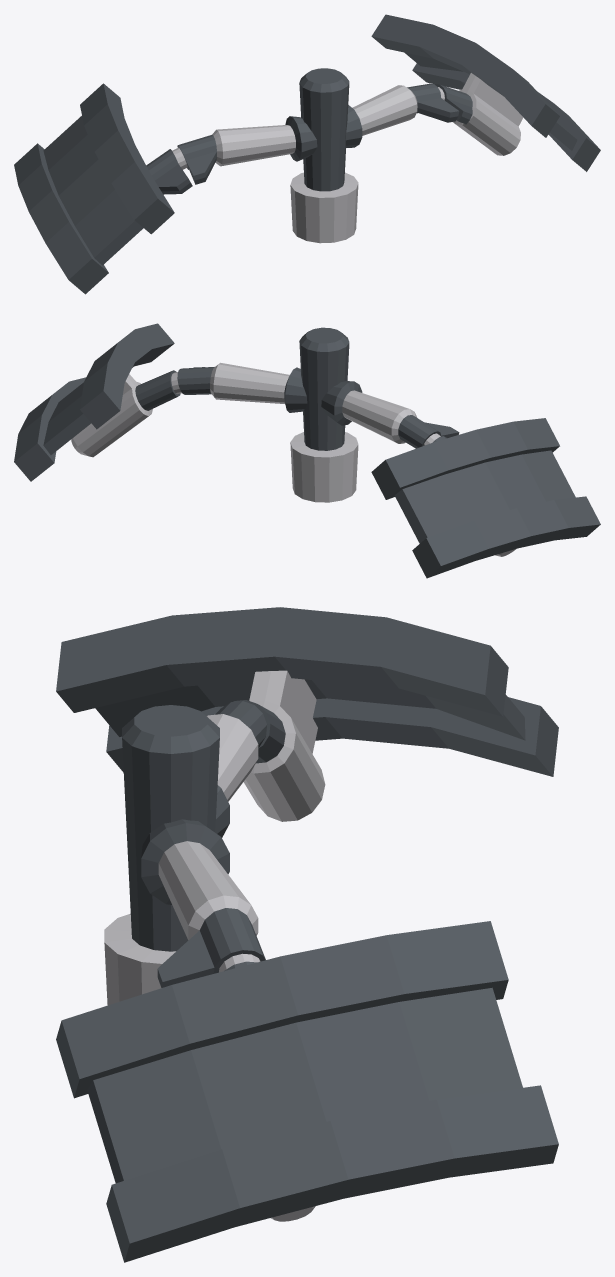
Rendered from Personal_Vehicle_04_Handle_Bard.fbx.
The picture shows the model from 3 angles, top to bottom: view 1: azimuth 30°, elevation 25°; view 2: azimuth 150°, elevation 25°; view 3: azimuth 270°, elevation 25°; orthographic projection. The views are drawn at different scales.
Parts seen in each view (by area): view 1: Personal_Vehicle_04_Handle_Bard; view 2: Personal_Vehicle_04_Handle_Bard; view 3: Personal_Vehicle_04_Handle_Bard.
Part boxes in pixels (x1,y1,x2,y2): Personal_Vehicle_04_Handle_Bard: [14, 14, 600, 294]; Personal_Vehicle_04_Handle_Bard: [14, 323, 600, 578]; Personal_Vehicle_04_Handle_Bard: [56, 607, 558, 1262].
Bounding box in the file's own units: 73.53 × 20.29 × 30.07.
1 material, 1 textured.
